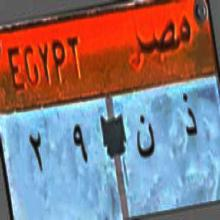2: (27, 124, 49, 181)
9: (69, 118, 92, 167)
noon: (134, 107, 156, 168)
zaal: (178, 90, 200, 143)
